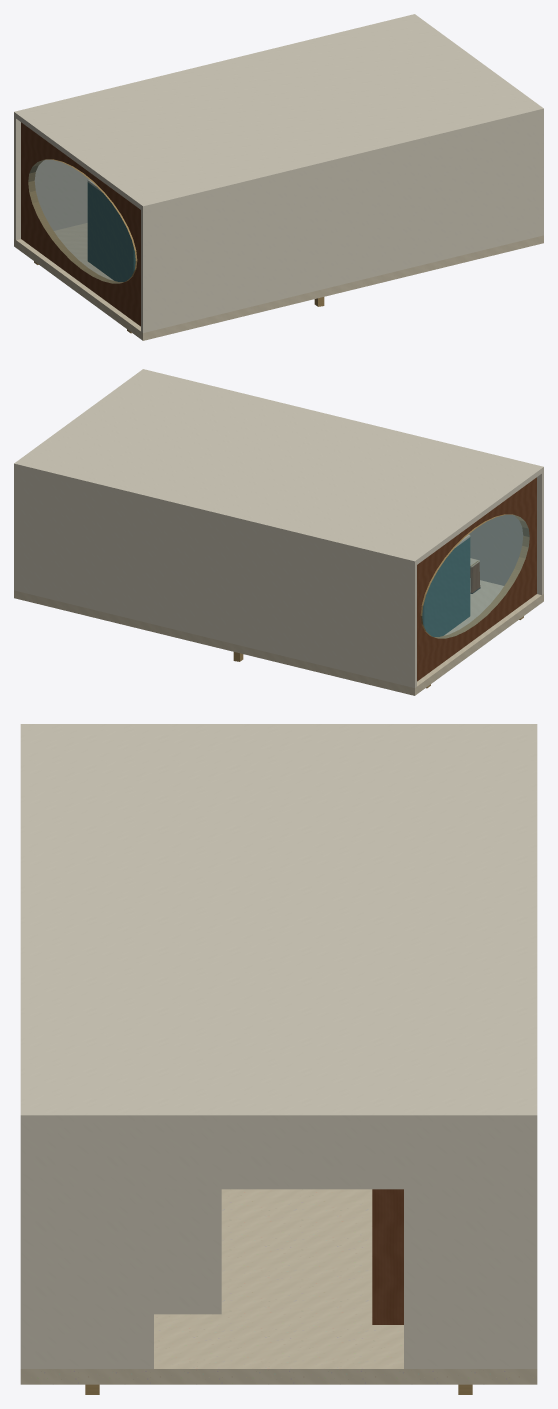
The model's file is NightGardenD15Specialty_494_r002.glb.
3 renders of one model, top to bottom at view 1: azimuth 30°, elevation 25°; view 2: azimuth 150°, elevation 25°; view 3: azimuth 270°, elevation 25°, orthographic. The views are drawn at different scales.
Parts seen in each view (by area): view 1: NG494_RuntimeBatch_001, NG494_OvalAtriumGlass, NG494_RoomFloor, NG494_RuntimeBatch_002, NG494_RuntimeBatch_006, NG494_RuntimeBatch_004; view 2: NG494_RuntimeBatch_001, NG494_OvalAtriumGlass, NG494_RoomFloor, NG494_RuntimeBatch_002, NG494_RuntimeBatch_006, NG494_RuntimeBatch_004; view 3: NG494_RuntimeBatch_001, NG494_RoomFloor, NG494_RuntimeBatch_002.
Boxes of the visible parts, <box> form: NG494_RuntimeBatch_001: <box>14,14,543,332</box>; NG494_OvalAtriumGlass: <box>28,160,135,283</box>; NG494_RoomFloor: <box>14,223,543,340</box>; NG494_RuntimeBatch_002: <box>21,122,140,326</box>; NG494_RuntimeBatch_006: <box>87,182,135,281</box>; NG494_RuntimeBatch_004: <box>28,159,324,333</box>; NG494_RuntimeBatch_001: <box>14,369,543,687</box>; NG494_OvalAtriumGlass: <box>422,515,529,638</box>; NG494_RoomFloor: <box>14,578,543,695</box>; NG494_RuntimeBatch_002: <box>417,477,536,681</box>; NG494_RuntimeBatch_006: <box>422,537,470,636</box>; NG494_RuntimeBatch_004: <box>233,514,529,688</box>; NG494_RuntimeBatch_001: <box>20,724,537,1368</box>; NG494_RoomFloor: <box>20,1189,537,1384</box>; NG494_RuntimeBatch_002: <box>372,1189,403,1324</box>.
Bounding box in the file's own units: 12.9 × 4.91 × 7.2.
Materials: 58 (43 with a texture image).
